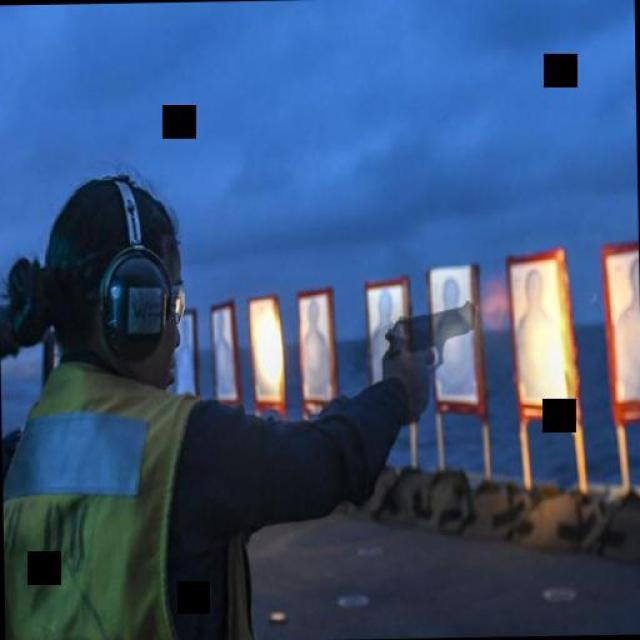gun: (379, 299, 480, 379)
